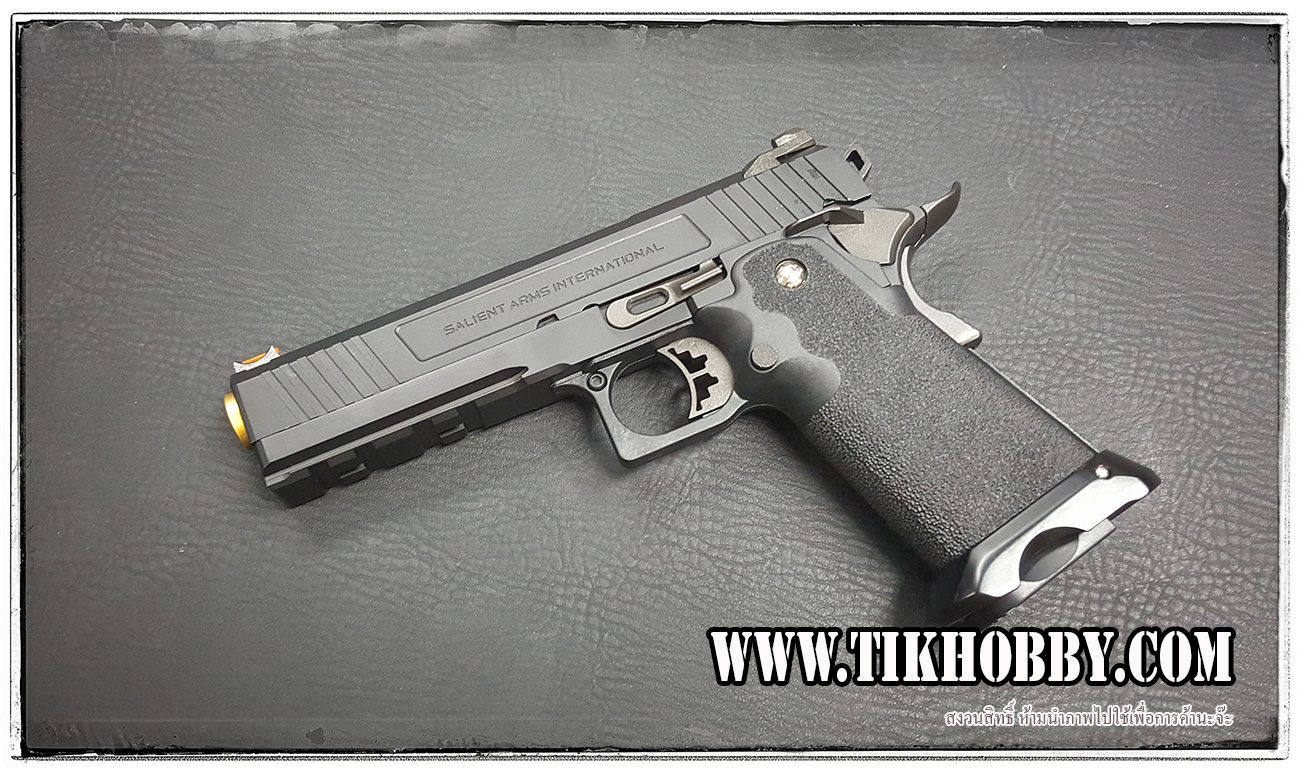gun: (204, 116, 1169, 629)
